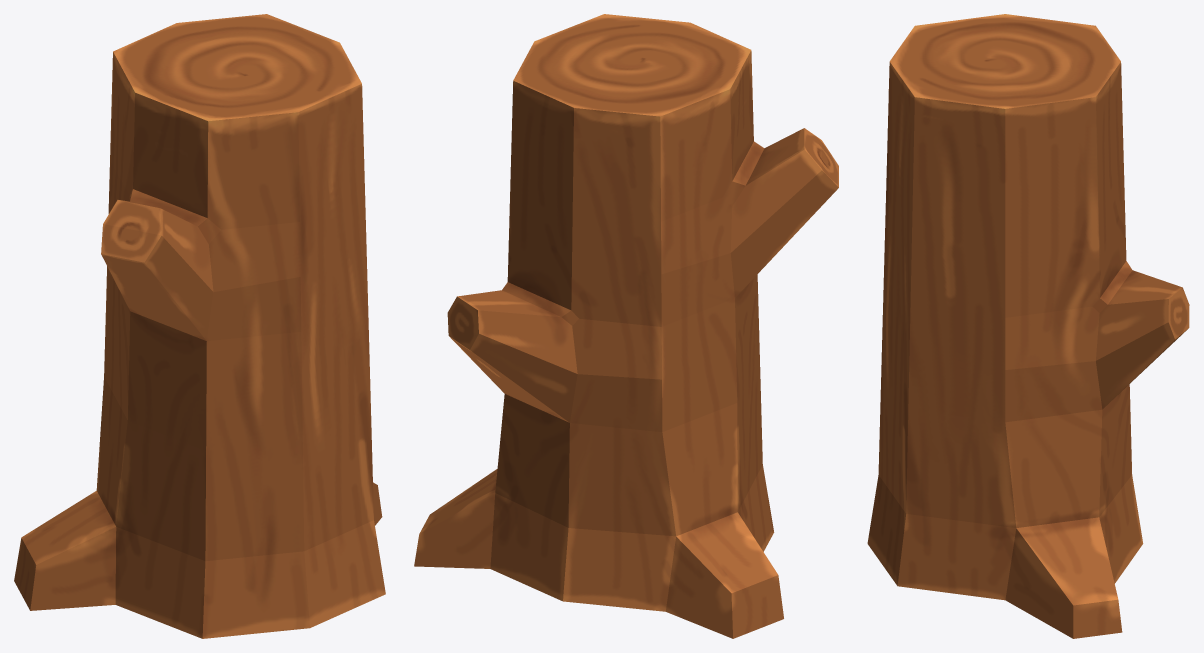
File: trunk.fbx
3 renders of one model, left to right at view 1: azimuth 30°, elevation 25°; view 2: azimuth 150°, elevation 25°; view 3: azimuth 270°, elevation 25°, orthographic. The views are drawn at different scales.
Visible parts, largest first — view 1: Trunk; view 2: Trunk; view 3: Trunk.
Boxes of the visible parts, x1,y1,x2,y2 form: Trunk: (14, 14, 385, 638); Trunk: (414, 14, 838, 638); Trunk: (867, 14, 1189, 638).
Size of the model in its own units: 128 by 174 by 103.
1 material, 1 textured.
